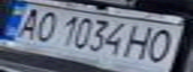0: (69, 16, 93, 51)
1: (51, 12, 81, 47)
3: (87, 17, 112, 54)
4: (103, 20, 133, 56)
A: (9, 6, 45, 40)
H: (121, 22, 163, 61)
O: (139, 26, 187, 64), (27, 10, 63, 43)
